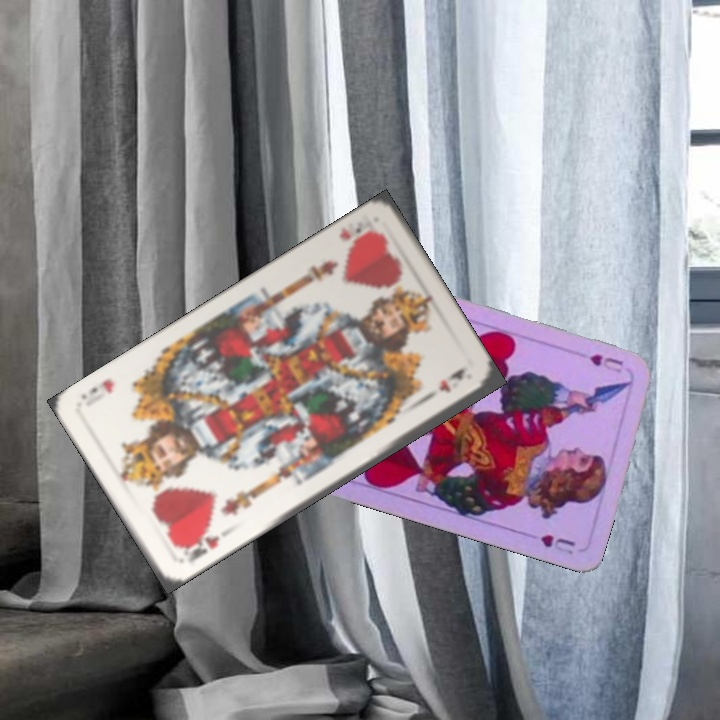HK: (176, 527, 222, 565), (335, 216, 378, 243)
HU: (586, 350, 626, 376)
